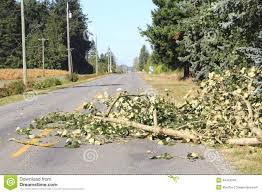obstacle: (40, 85, 262, 155)
